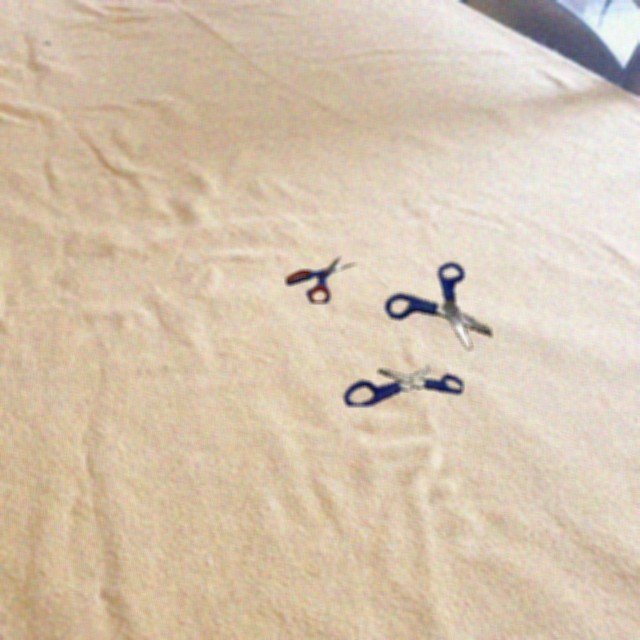scissors: (385, 262, 492, 350), (344, 366, 463, 406), (286, 256, 356, 303)
